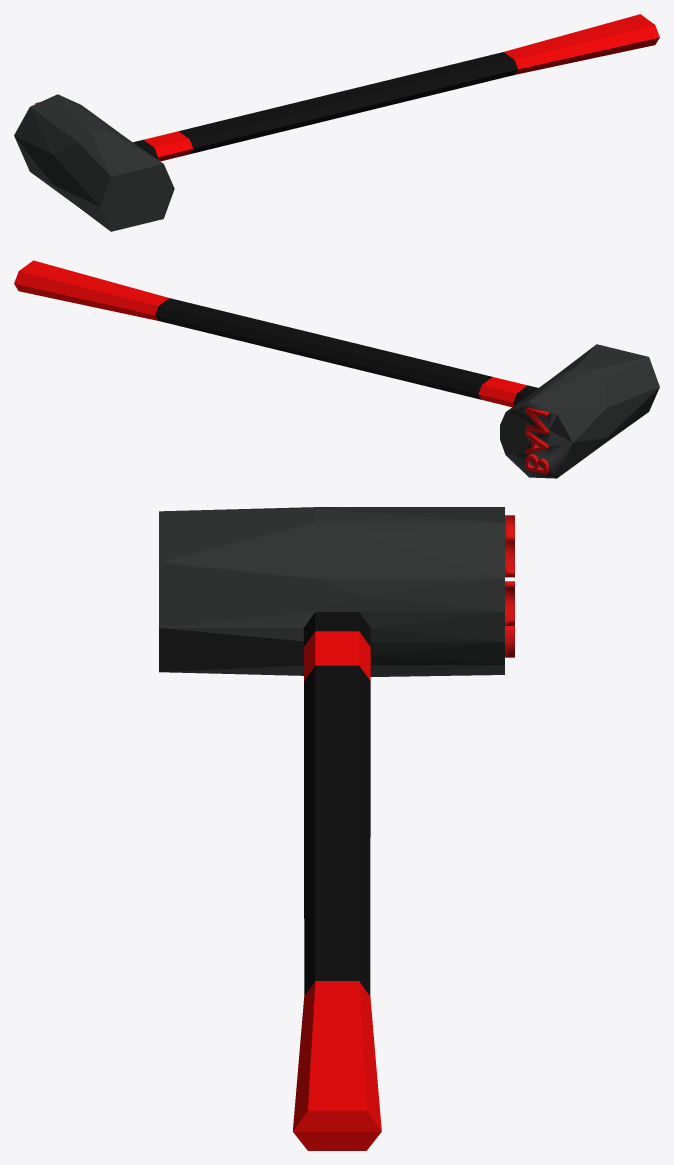
File: Model_BanHammer.fbx
3 renders of one model, top to bottom at view 1: azimuth 30°, elevation 25°; view 2: azimuth 150°, elevation 25°; view 3: azimuth 270°, elevation 25°, orthographic. The views are drawn at different scales.
Visible parts, largest first — view 1: Text.001; view 2: Text.001; view 3: Text.001.
Boxes of the visible parts, bbox=[...] form: Text.001: bbox=[14, 14, 659, 231]; Text.001: bbox=[14, 260, 659, 478]; Text.001: bbox=[159, 507, 514, 1150].
Bounding box in the file's own units: 36.09 × 17.04 × 138.
